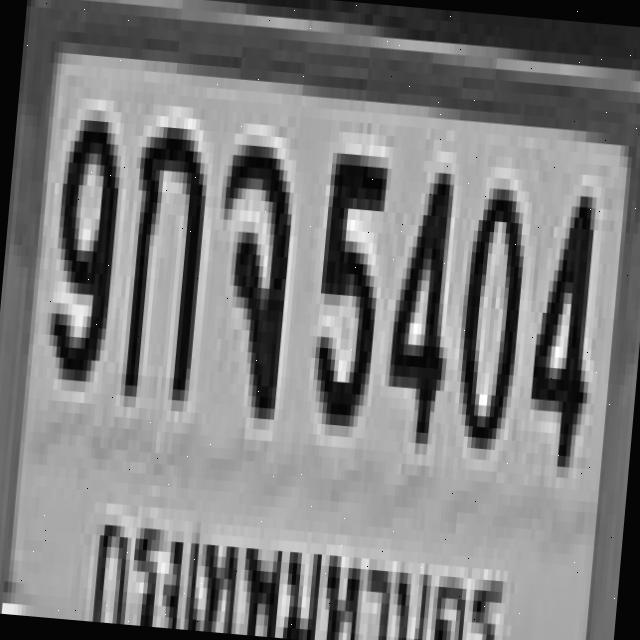0: (452, 176, 526, 440)
10GorGai: (117, 114, 208, 390)
17ChorChan: (203, 126, 294, 402)
4: (380, 159, 456, 433), (522, 182, 597, 456)
5: (306, 141, 385, 416)
9: (42, 108, 120, 372)
Bangkok: (77, 489, 519, 640)
